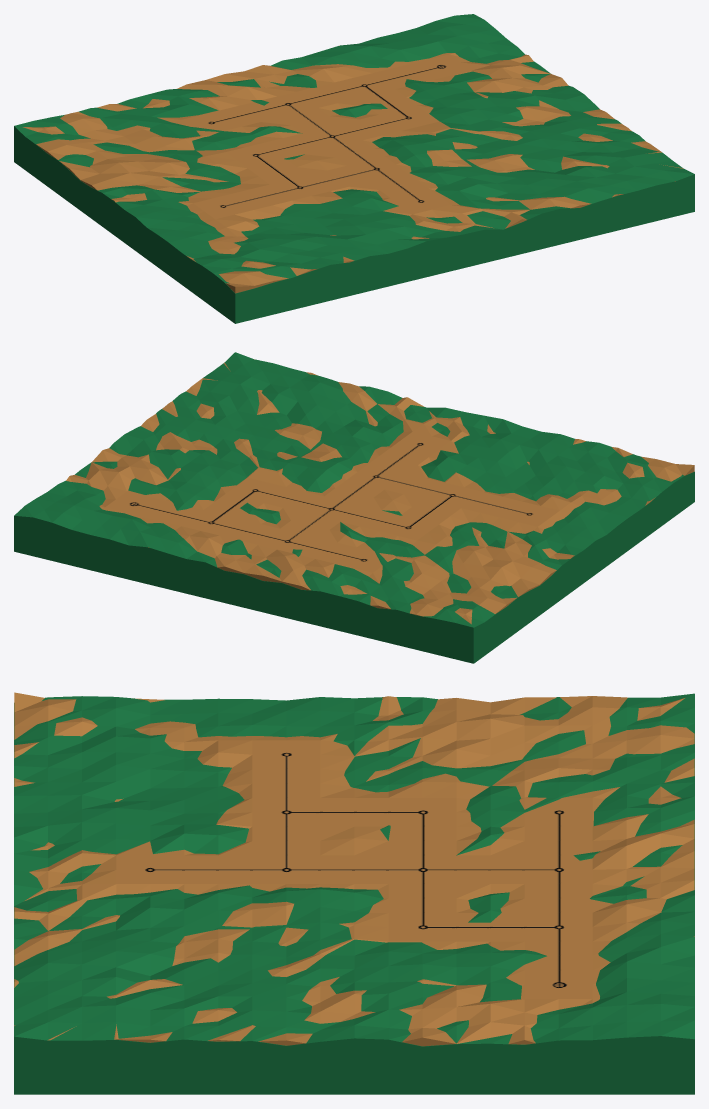
Rendered from Nivell3.FBX.
3 renders of one model, top to bottom at view 1: azimuth 30°, elevation 25°; view 2: azimuth 150°, elevation 25°; view 3: azimuth 270°, elevation 25°, orthographic. The views are drawn at different scales.
Visible parts, largest first — view 1: Plane001; view 2: Plane001; view 3: Plane001.
Part boxes in pixels (x1,y1,x2,y2): Plane001: (14, 14, 694, 323); Plane001: (14, 352, 694, 663); Plane001: (14, 692, 694, 1094).
Size of the model in its own units: 11.82 by 0.9875 by 9.85.
